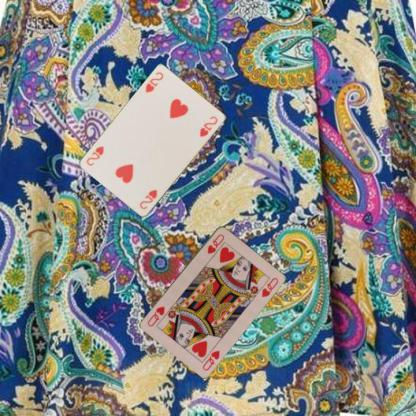2h: (142, 70, 165, 94), (137, 187, 158, 211)
Qh: (204, 231, 226, 255), (200, 347, 221, 372)
